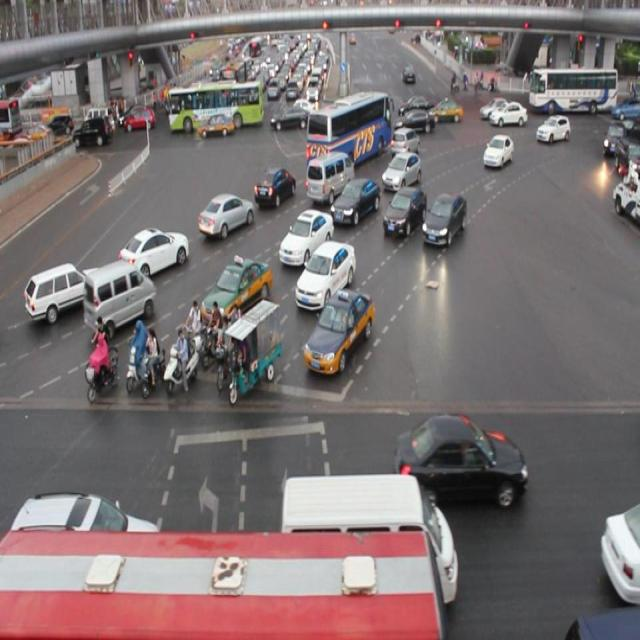car: (394, 412, 527, 510), (13, 487, 161, 562), (304, 288, 374, 376), (199, 252, 272, 324), (25, 263, 109, 324), (596, 497, 640, 605), (296, 240, 356, 310), (120, 226, 188, 279), (278, 206, 334, 268), (421, 190, 466, 248), (199, 191, 254, 238), (330, 174, 380, 225), (382, 187, 428, 235), (252, 166, 296, 207), (381, 152, 422, 189), (482, 132, 512, 168), (391, 122, 419, 154), (534, 116, 569, 141)
truck: (282, 474, 458, 606), (84, 261, 154, 334), (306, 154, 355, 202)
van: (1, 525, 443, 640), (306, 92, 391, 170)
